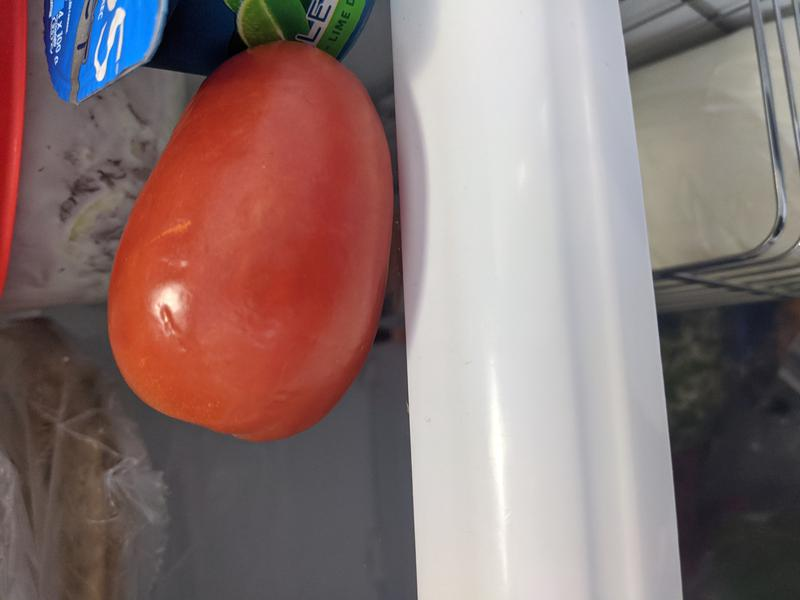tomato: (106, 38, 396, 443)
